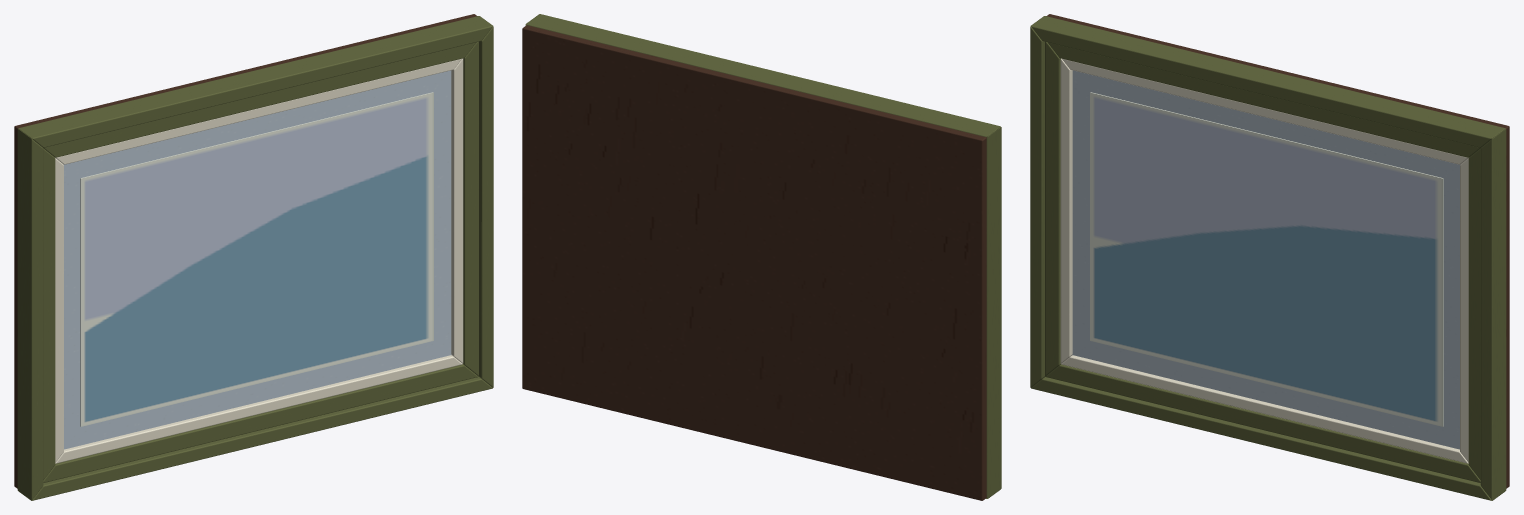
File: LAY03_UpperFrame_1.fbx
3 renders of one model, left to right at view 1: azimuth 30°, elevation 25°; view 2: azimuth 150°, elevation 25°; view 3: azimuth 330°, elevation 25°, orthographic.
Parts seen in each view (by area): view 1: LAY03_UpperFrame_1; view 2: LAY03_UpperFrame_1; view 3: LAY03_UpperFrame_1.
Part boxes in pixels (<box>): LAY03_UpperFrame_1: <box>14,14,493,500</box>; LAY03_UpperFrame_1: <box>522,14,1001,500</box>; LAY03_UpperFrame_1: <box>1030,14,1509,500</box>.
Bounding box in the file's own units: 0.52 × 0.39 × 0.036.
2 materials, 2 textured.
